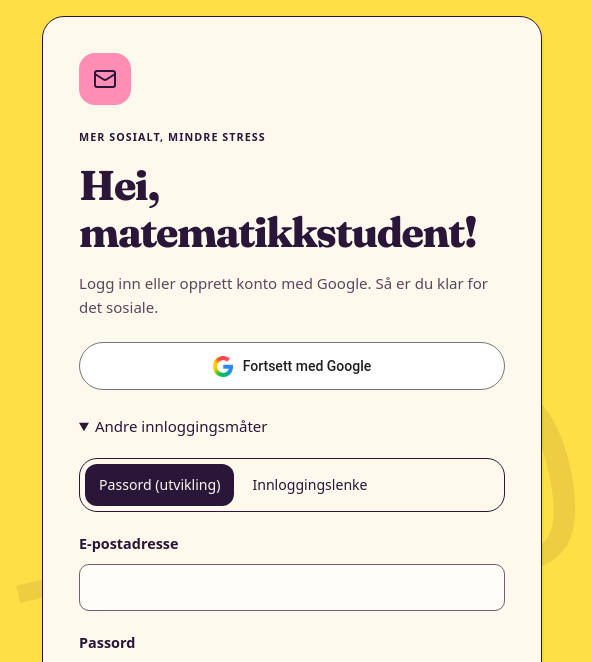
Scenario: Google OAuth › shows only a safe retry message on startup response errors
Click the button "Fortsett med Google": x=292, y=366 [79, 342, 505, 390]
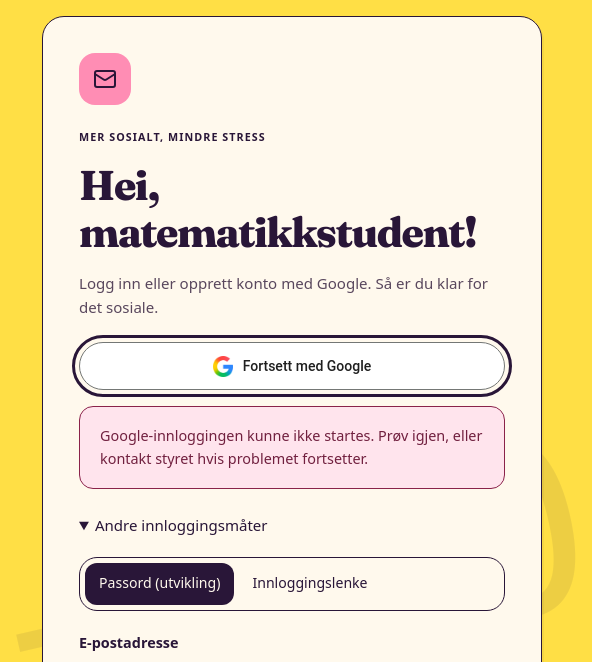
Expected: the message shows "Google-innloggingen kunne ikke startes", [100, 426, 482, 468]
